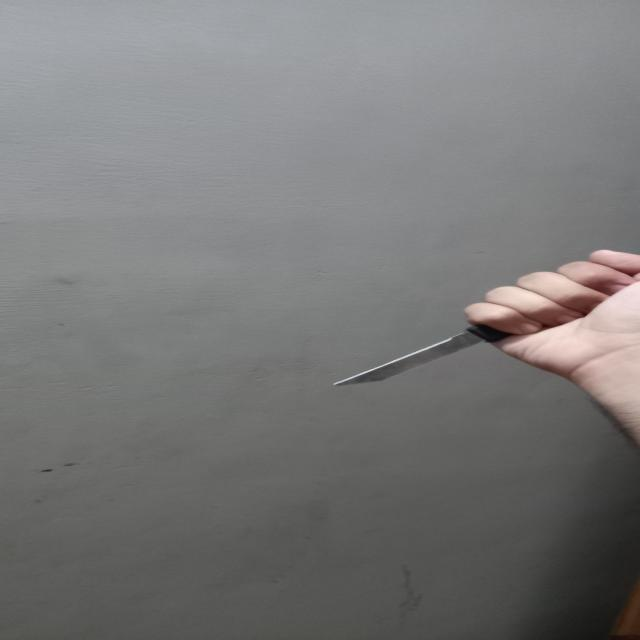faca: (334, 322, 512, 387)
